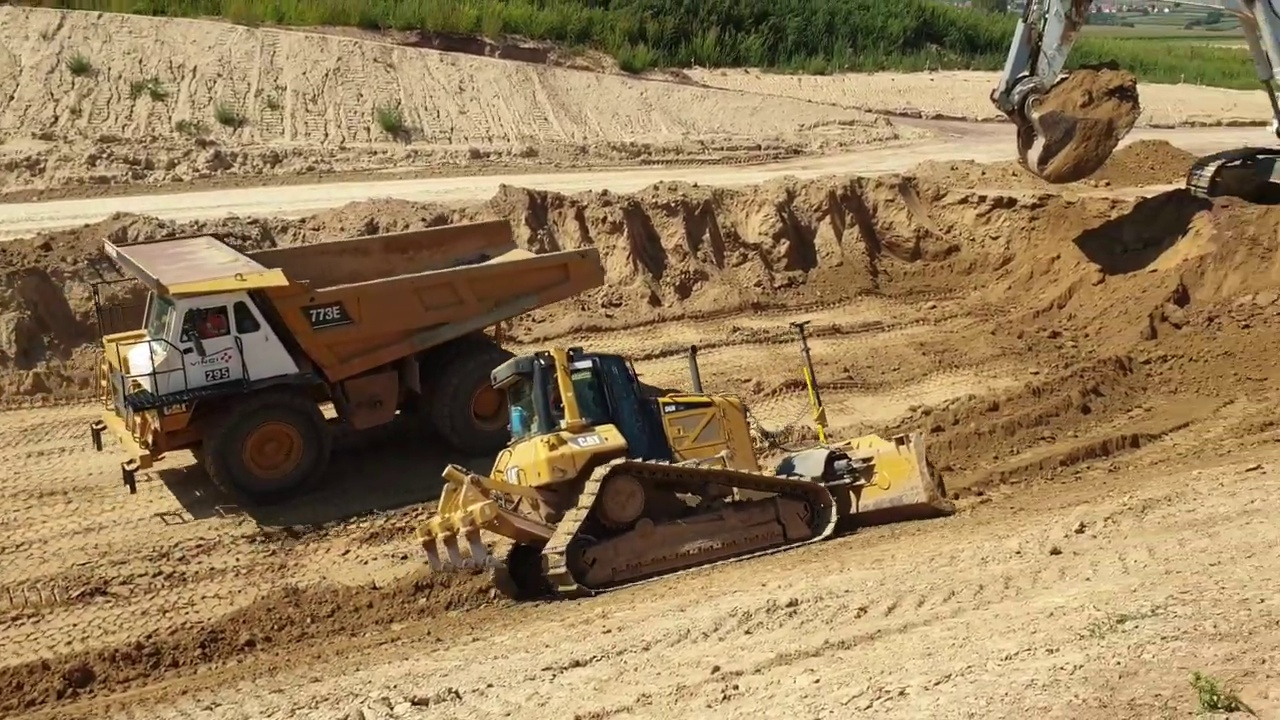bulldozer: (418, 319, 961, 609)
excavator: (980, 1, 1280, 215)
truck: (85, 214, 609, 512)
